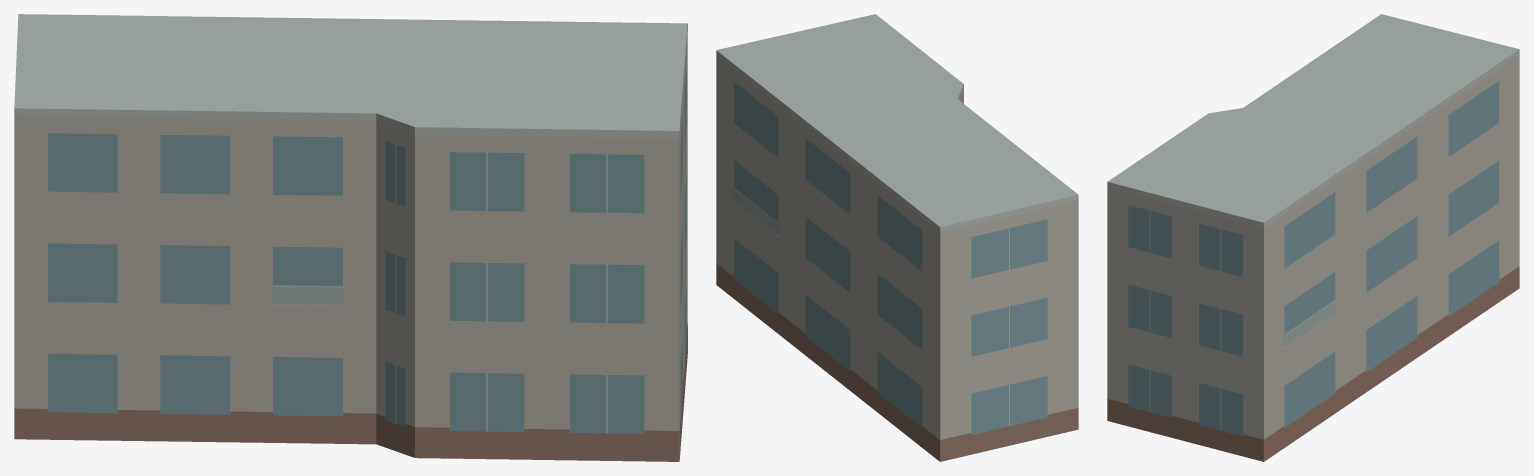
Rendered from survey-upis-32886542.glb.
3 views of the same model, side by side, from view 1: azimuth 30°, elevation 25°; view 2: azimuth 150°, elevation 25°; view 3: azimuth 270°, elevation 25° (orthographic). The views are drawn at different scales.
Parts seen in each view (by area): view 1: survey-upis-32886542.tmp; view 2: survey-upis-32886542.tmp; view 3: survey-upis-32886542.tmp.
Part boxes in pixels (x1,y1,x2,y2): survey-upis-32886542.tmp: [14, 14, 687, 461]; survey-upis-32886542.tmp: [716, 14, 1078, 461]; survey-upis-32886542.tmp: [1107, 14, 1519, 461].
Bounding box in the file's own units: 19.67 × 10.5 × 16.41.
